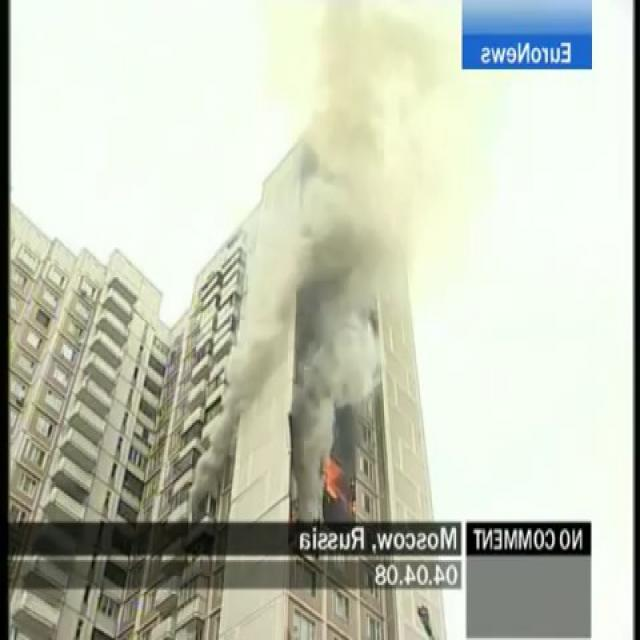fire: (321, 450, 344, 498)
